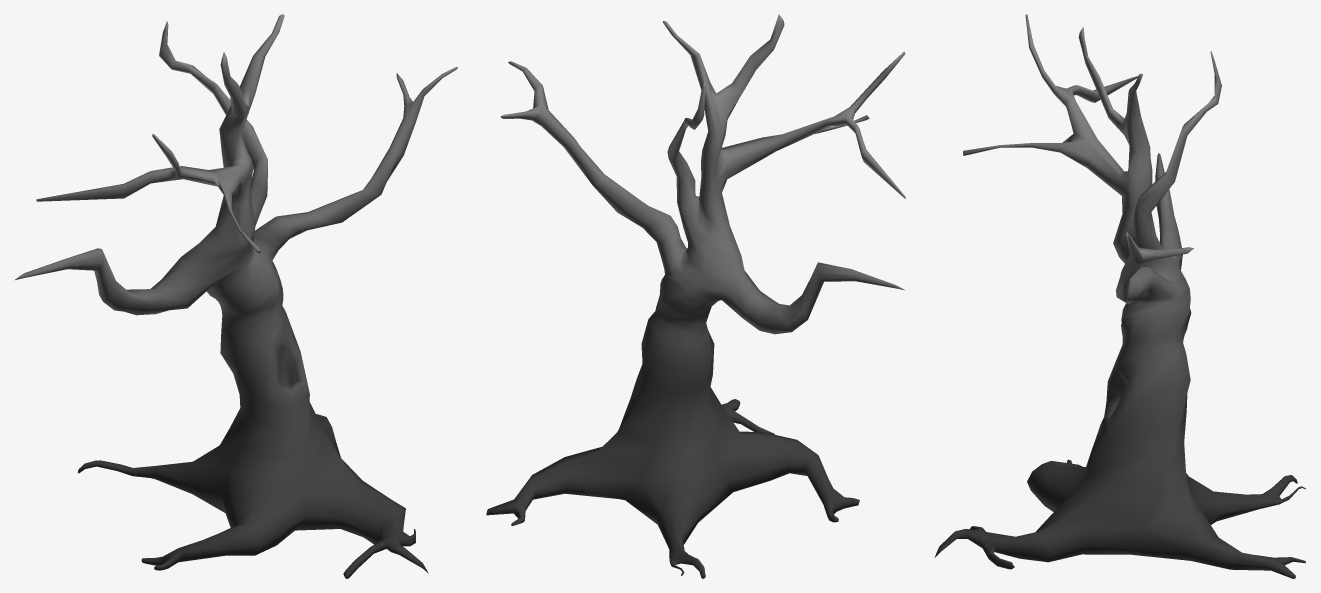
The model's file is NightTree2.fbx.
The picture shows the model from 3 angles, left to right: view 1: azimuth 30°, elevation 25°; view 2: azimuth 150°, elevation 25°; view 3: azimuth 270°, elevation 25°; orthographic projection. The views are drawn at different scales.
Visible parts, largest first — view 1: DeadTree_LoPoly.007; view 2: DeadTree_LoPoly.007; view 3: DeadTree_LoPoly.007.
Part boxes in pixels (x1,y1,x2,y2): DeadTree_LoPoly.007: (14, 14, 457, 578); DeadTree_LoPoly.007: (486, 14, 905, 578); DeadTree_LoPoly.007: (934, 14, 1305, 578).
Bounding box in the file's own units: 483 × 543 × 381.
